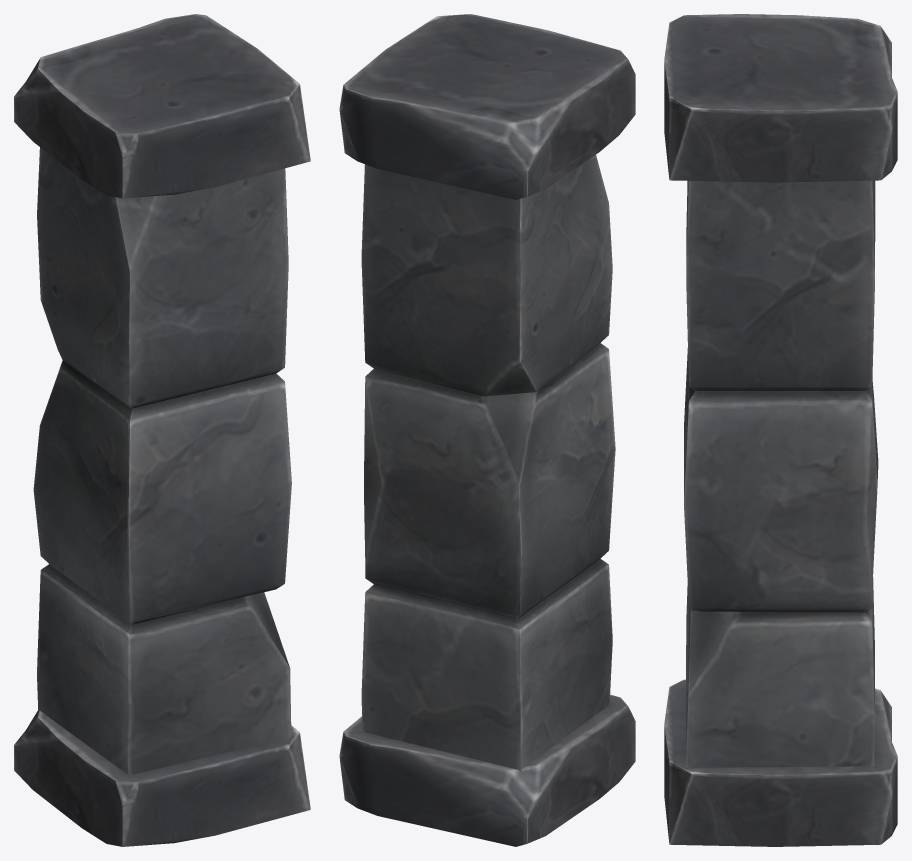
Rendered from Column02.FBX.
3 views of the same model, side by side, from view 1: azimuth 30°, elevation 25°; view 2: azimuth 150°, elevation 25°; view 3: azimuth 270°, elevation 25° (orthographic). The views are drawn at different scales.
Parts seen in each view (by area): view 1: Column02; view 2: Column02; view 3: Column02.
Part boxes in pixels (x1=…): Column02: x1=14, y1=14, x2=310, y2=846; Column02: x1=339, y1=14, x2=635, y2=846; Column02: x1=664, y1=14, x2=897, y2=846.
Size of the model in its own units: 0.8808 by 0.8917 by 3.1.
